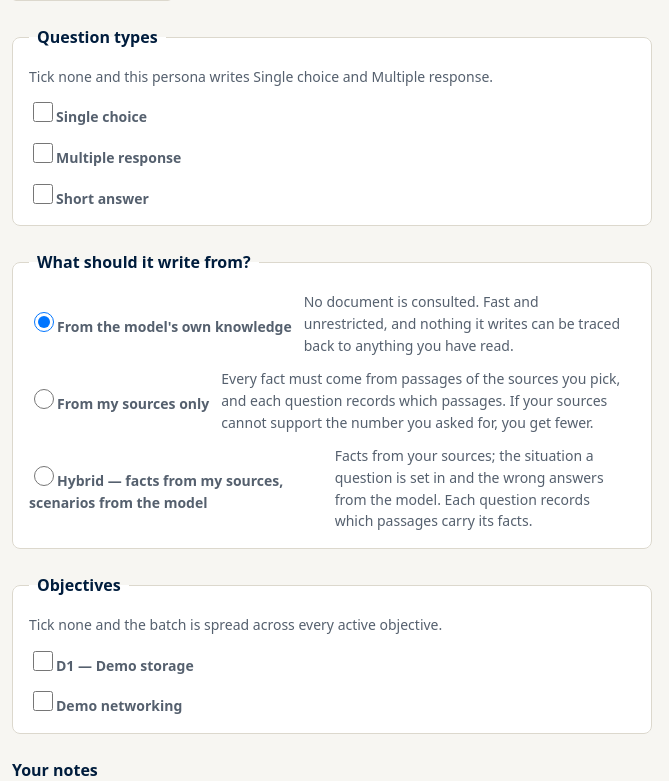
Test: GenerationForm › what it writes from › points at the sources page when the track has nothing to ground on
The image size is (669, 781).
(page scrolled)
Step 1. Click the radio button labelled "From my sources only" → {"x": 44, "y": 399}, box [34,389,54,409]
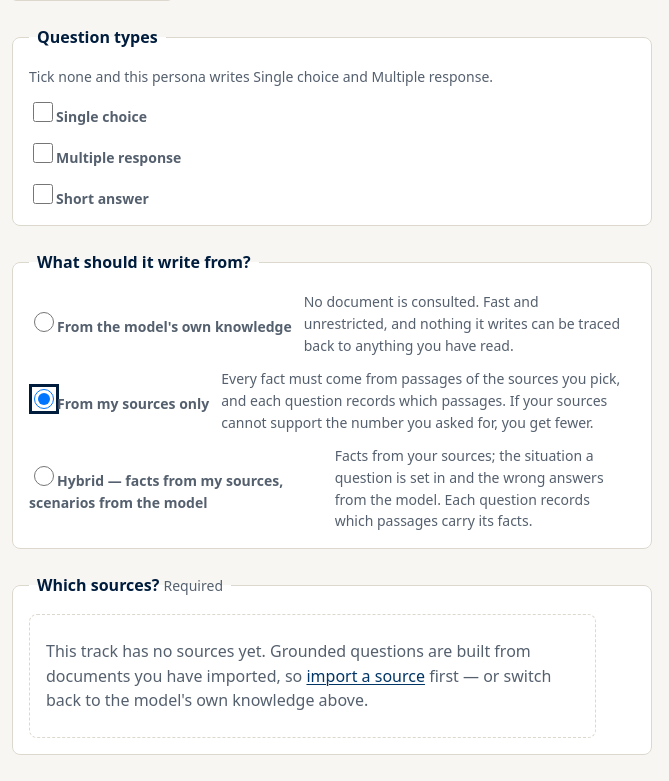
Now the text "This track has no sources yet." is shown, box [46,640,531,687]
